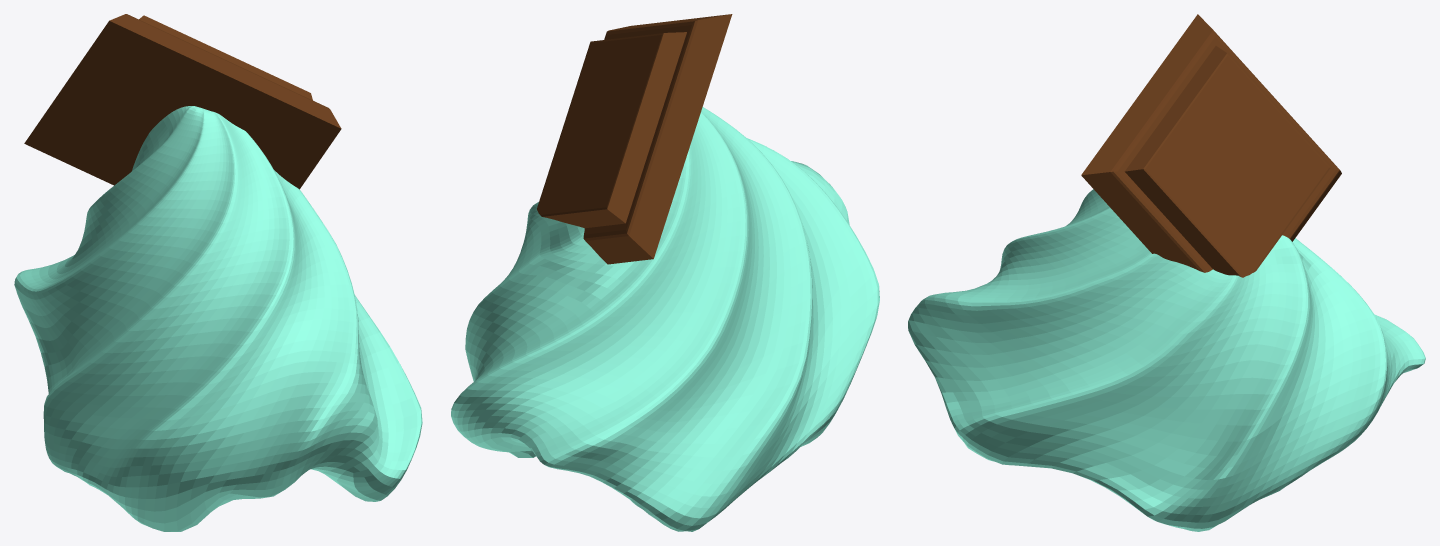
The model's file is Mint.fbx.
The picture shows the model from 3 angles, left to right: view 1: azimuth 30°, elevation 25°; view 2: azimuth 150°, elevation 25°; view 3: azimuth 270°, elevation 25°; orthographic projection. The views are drawn at different scales.
Visible parts, largest first — view 1: Cylinder, Cube; view 2: Cylinder, Cube; view 3: Cylinder, Cube.
Part boxes in pixels (left/top/right/bottom): Cylinder: left=14, top=106, right=422, bottom=531; Cube: left=24, top=14, right=341, bottom=189; Cylinder: left=451, top=107, right=879, bottom=531; Cube: left=537, top=14, right=732, bottom=264; Cylinder: left=908, top=189, right=1425, bottom=531; Cube: left=1081, top=14, right=1341, bottom=277.
Size of the model in its own units: 113 by 176 by 193.
